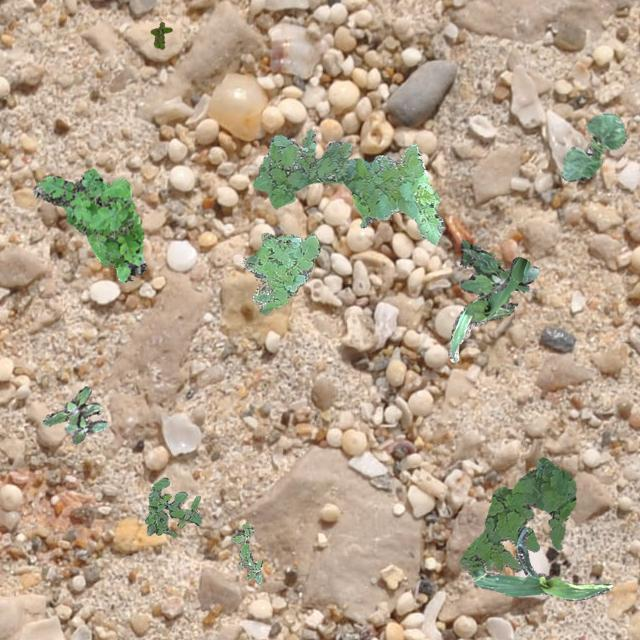crop: (472, 526, 612, 600), (448, 256, 528, 362), (560, 112, 626, 180)
weed: (252, 128, 442, 244), (458, 456, 574, 574), (32, 168, 144, 282), (243, 232, 320, 314), (458, 238, 538, 302), (42, 386, 106, 444), (144, 476, 200, 536), (230, 522, 262, 582), (150, 20, 170, 48)
